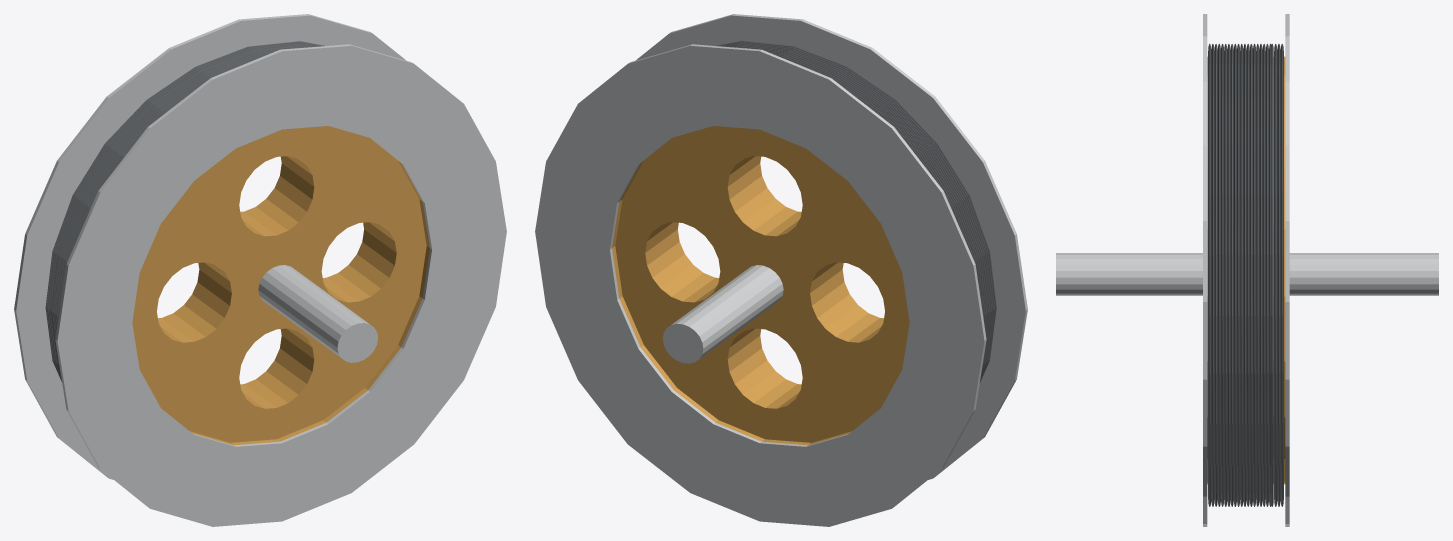
Rendered from upper_drum.glb.
3 views of the same model, side by side, from view 1: azimuth 30°, elevation 25°; view 2: azimuth 150°, elevation 25°; view 3: azimuth 270°, elevation 25° (orthographic).
Parts seen in each view (by area): view 1: Mesh_Mesh_head_geo.001_lambert2SG.001; view 2: Mesh_Mesh_head_geo.001_lambert2SG.001; view 3: Mesh_Mesh_head_geo.001_lambert2SG.001.
Part boxes in pixels (<box>): Mesh_Mesh_head_geo.001_lambert2SG.001: <box>14,14,506,526</box>; Mesh_Mesh_head_geo.001_lambert2SG.001: <box>535,14,1027,526</box>; Mesh_Mesh_head_geo.001_lambert2SG.001: <box>1056,14,1438,526</box>.
Bounding box in the file's own units: 12.15 × 12.15 × 9.
